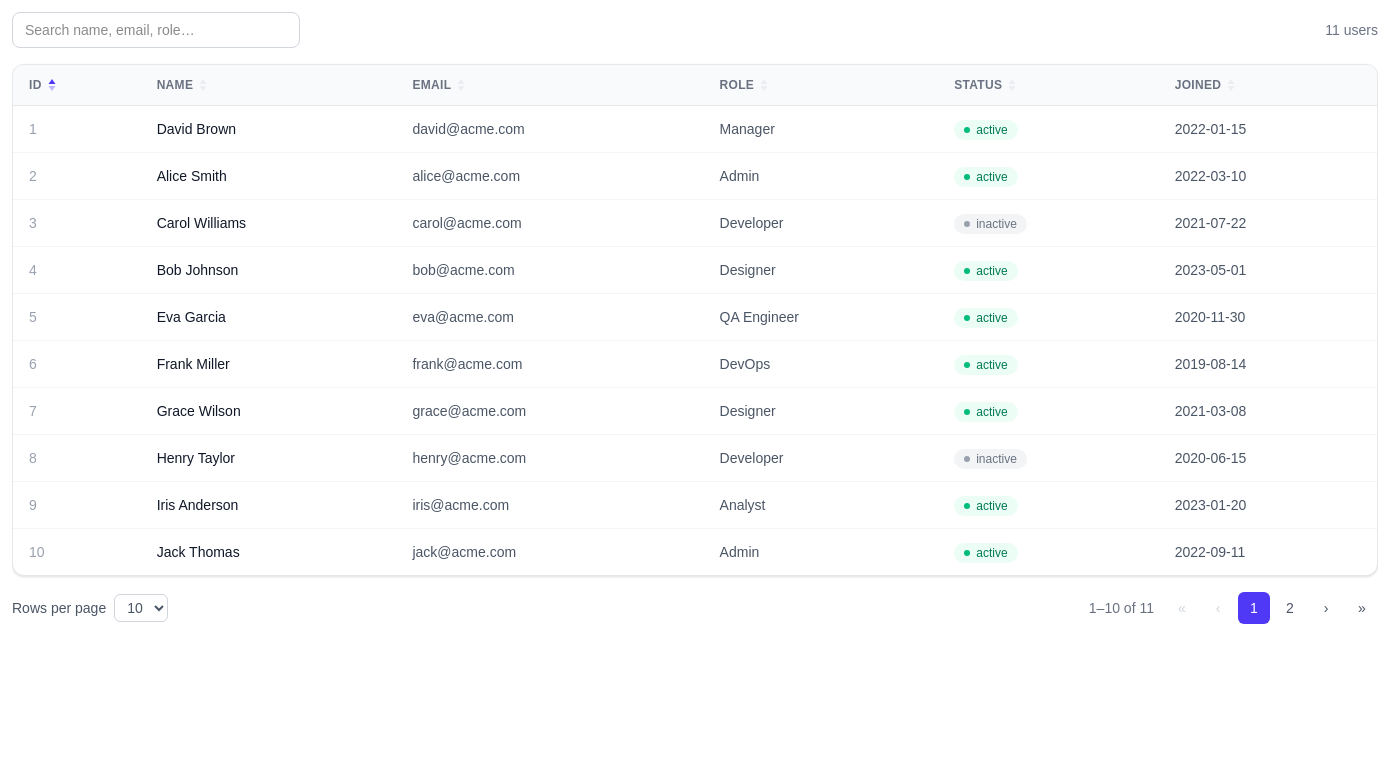
DataTable — sorting › reverses sort to descending when the same header is clicked twice
Click the column heading "Name". click: (175, 85)
box: left=141, top=65, right=396, bottom=106
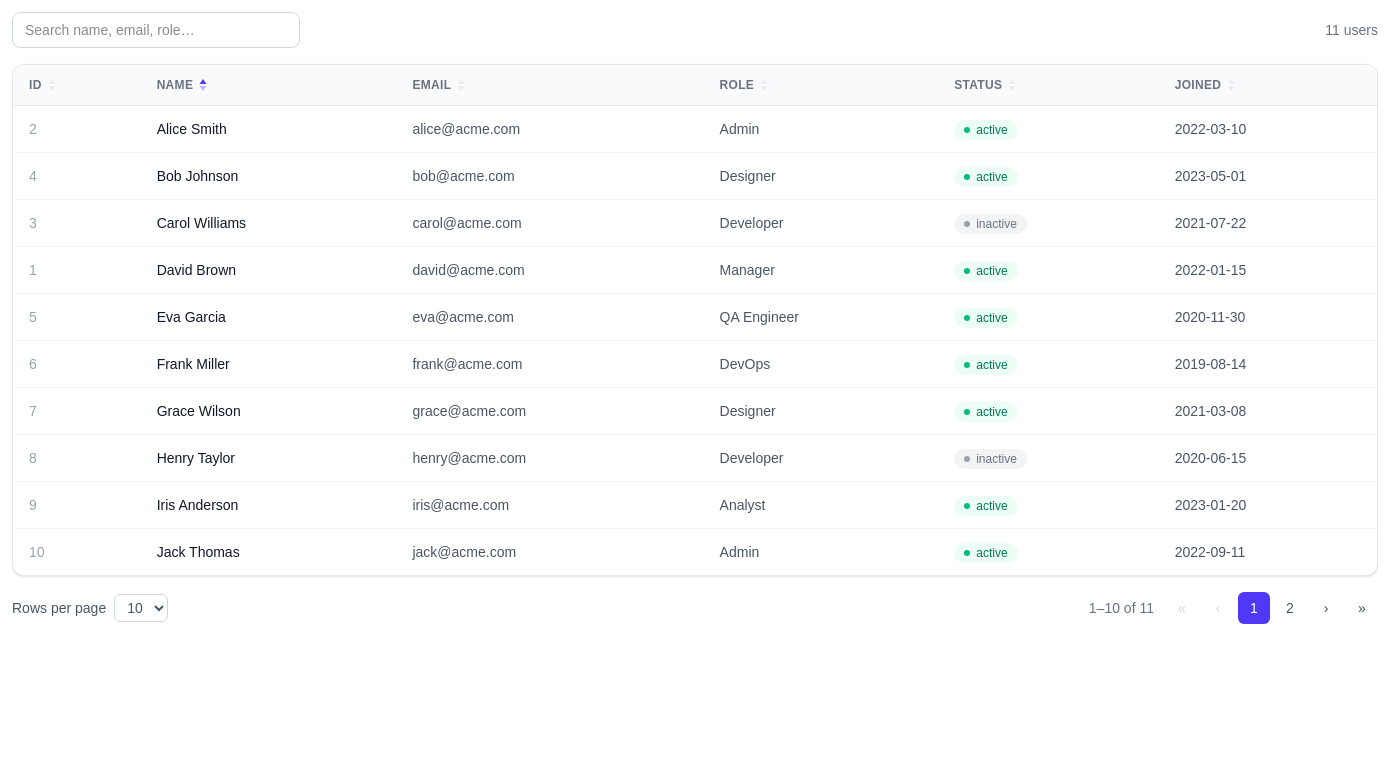
Click the column heading "Name". click: (175, 85)
box: left=141, top=65, right=396, bottom=106
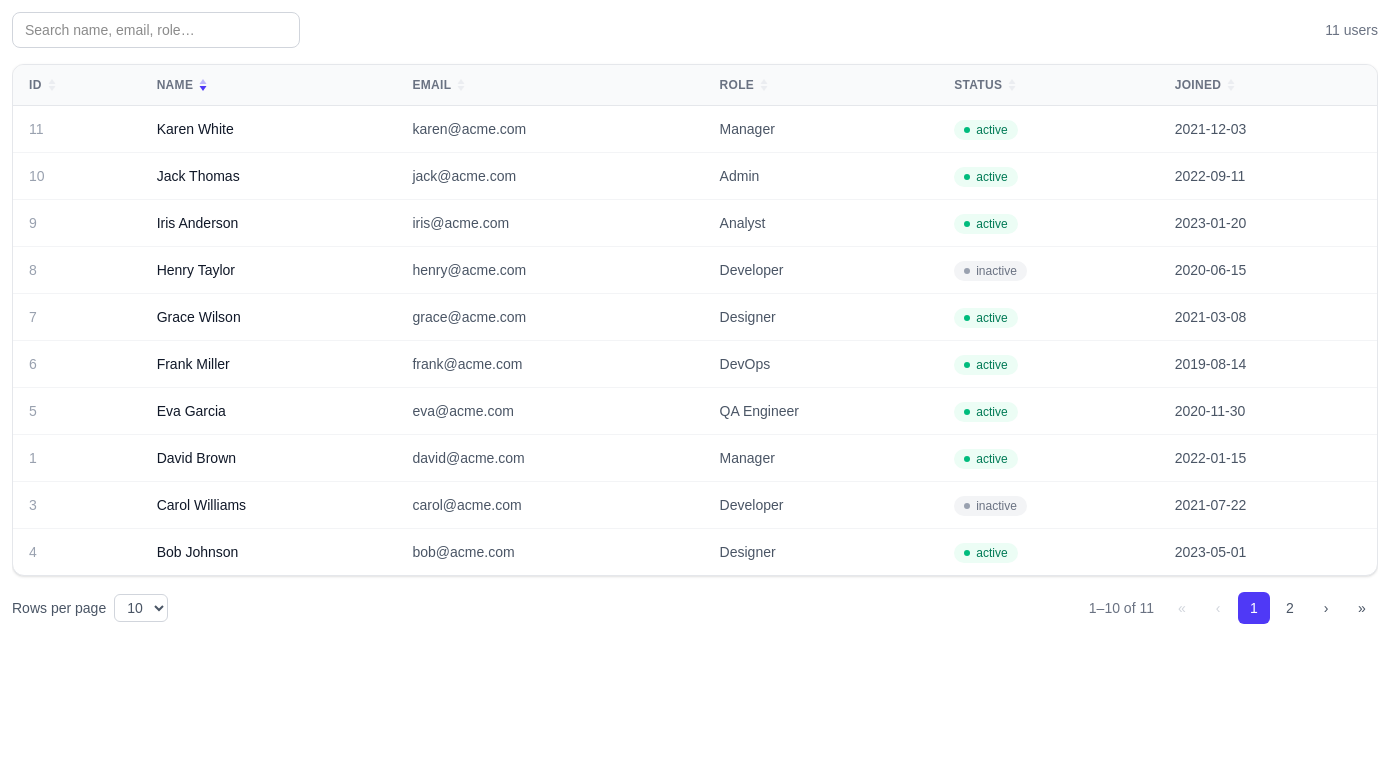
Check: the cell "Karen White" is shown, box left=141, top=106, right=396, bottom=152
